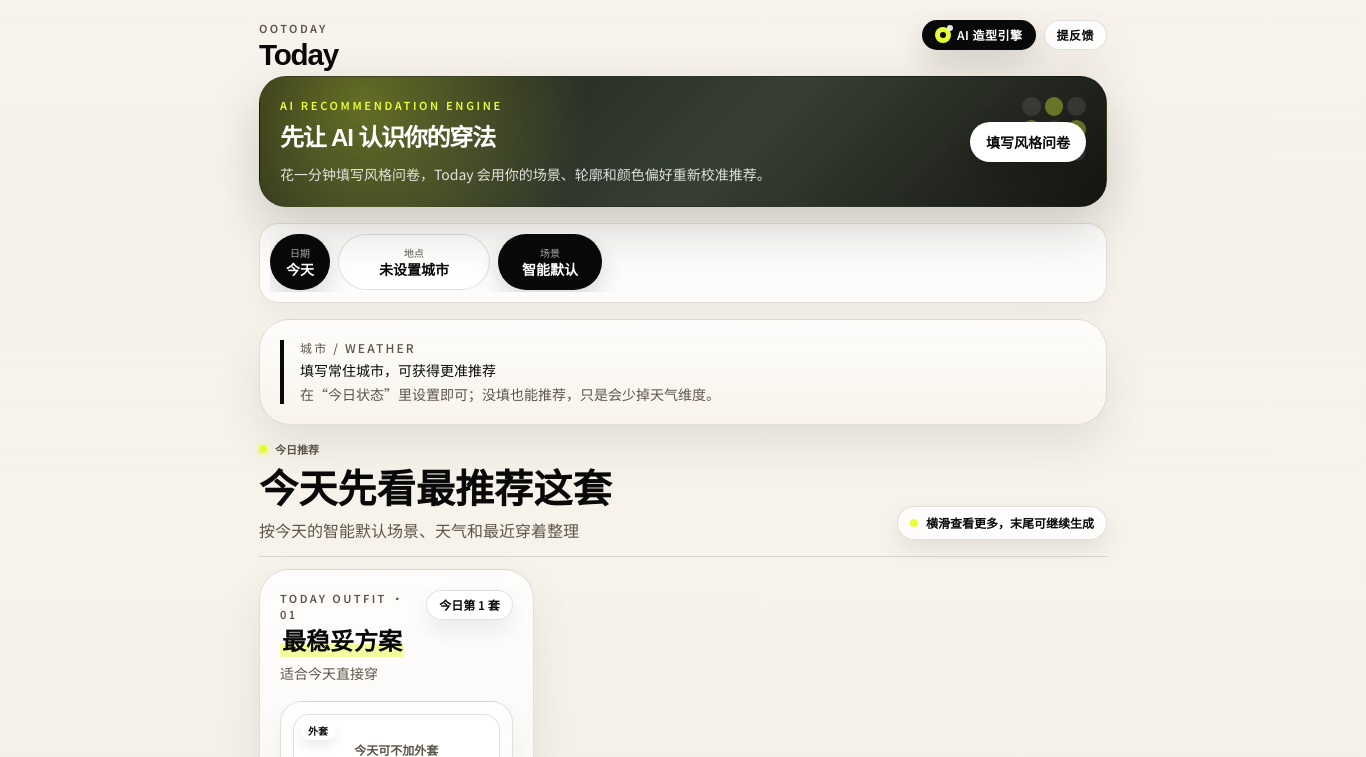
Scenario: TodayPage › opens the city form from context and hides the city prompt after save
The image size is (1366, 757).
Expected: the text "填写常住城市，可获得更准推荐" is shown, [300,360,496,380]
Click the button with aria-label "地点：未设置城市".
click(414, 262)  # box [338,234,490,290]
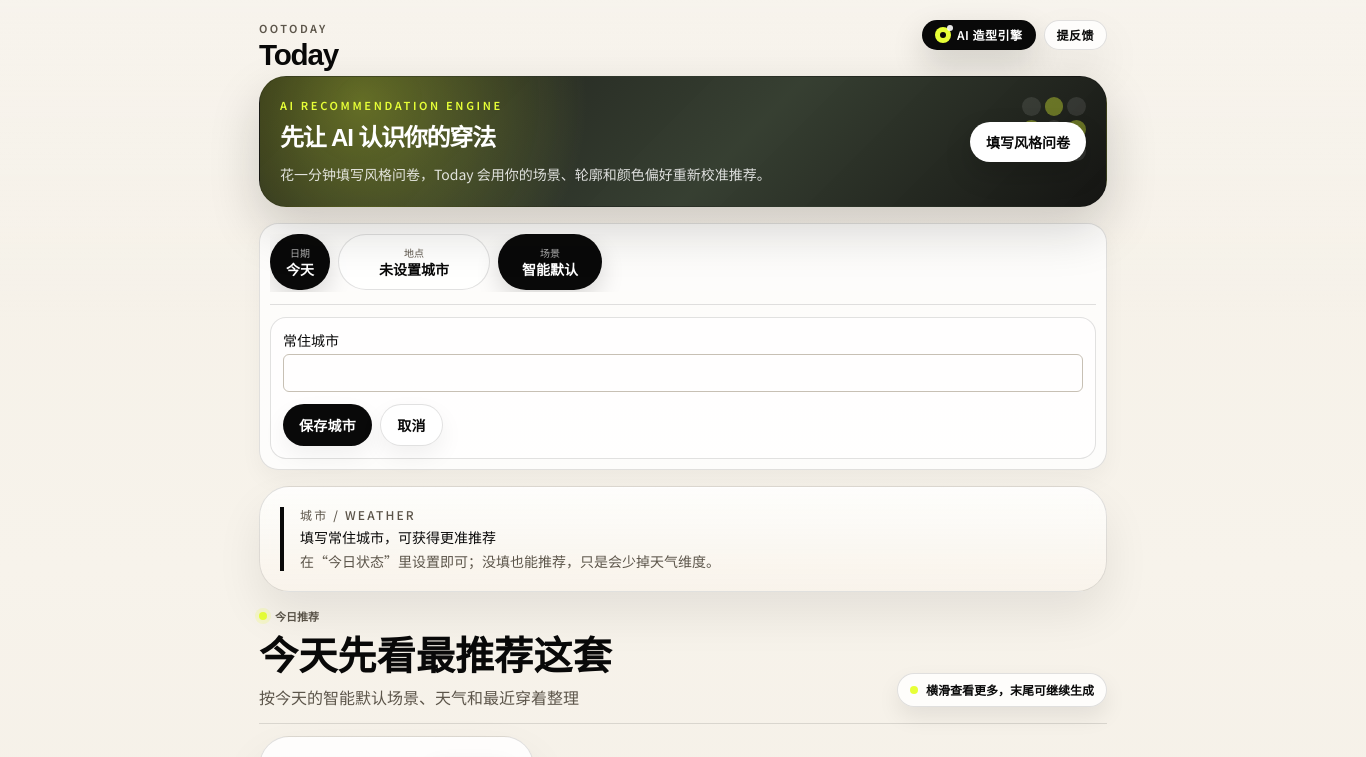
Type "上海" into the field labelled "常住城市".
click(683, 373); type("上海")  # box [283,354,1083,392]
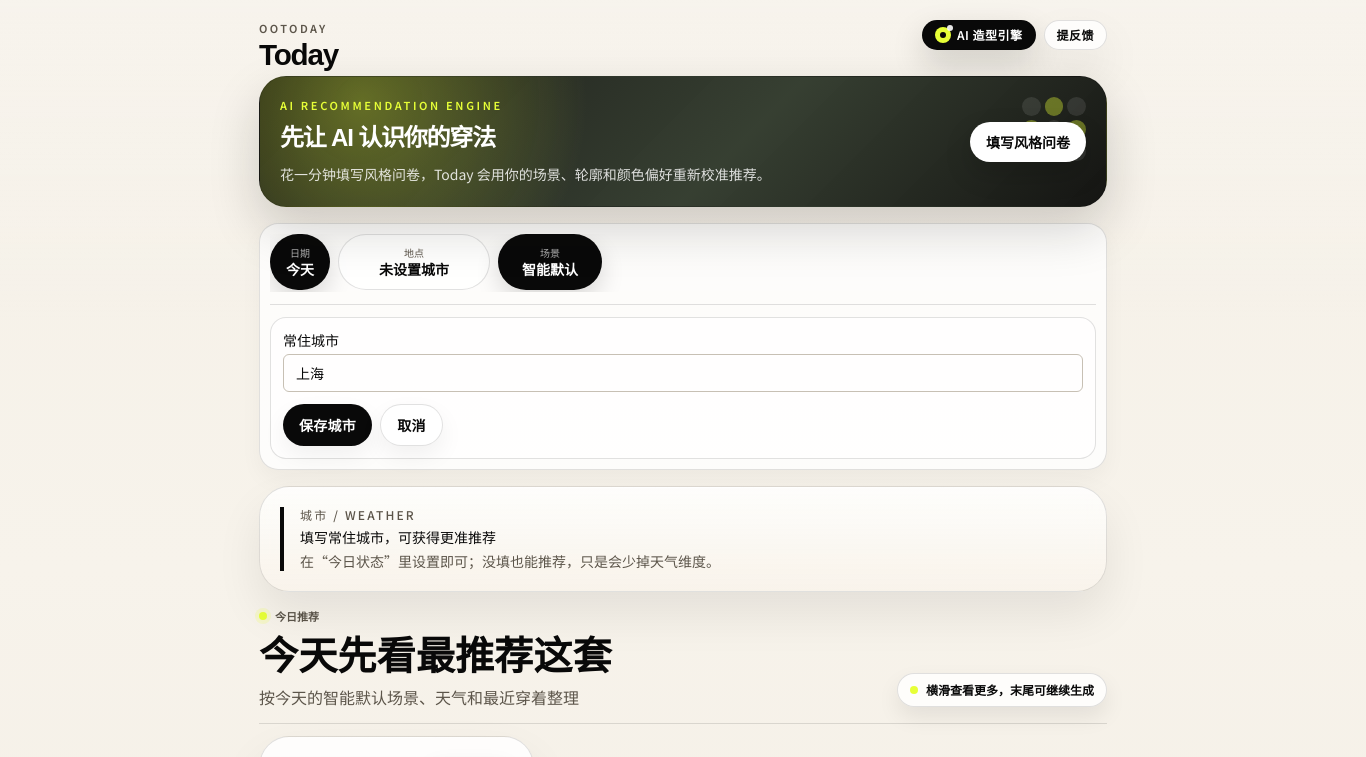
Click the button "保存城市".
click(328, 425)  # box [283,404,372,446]
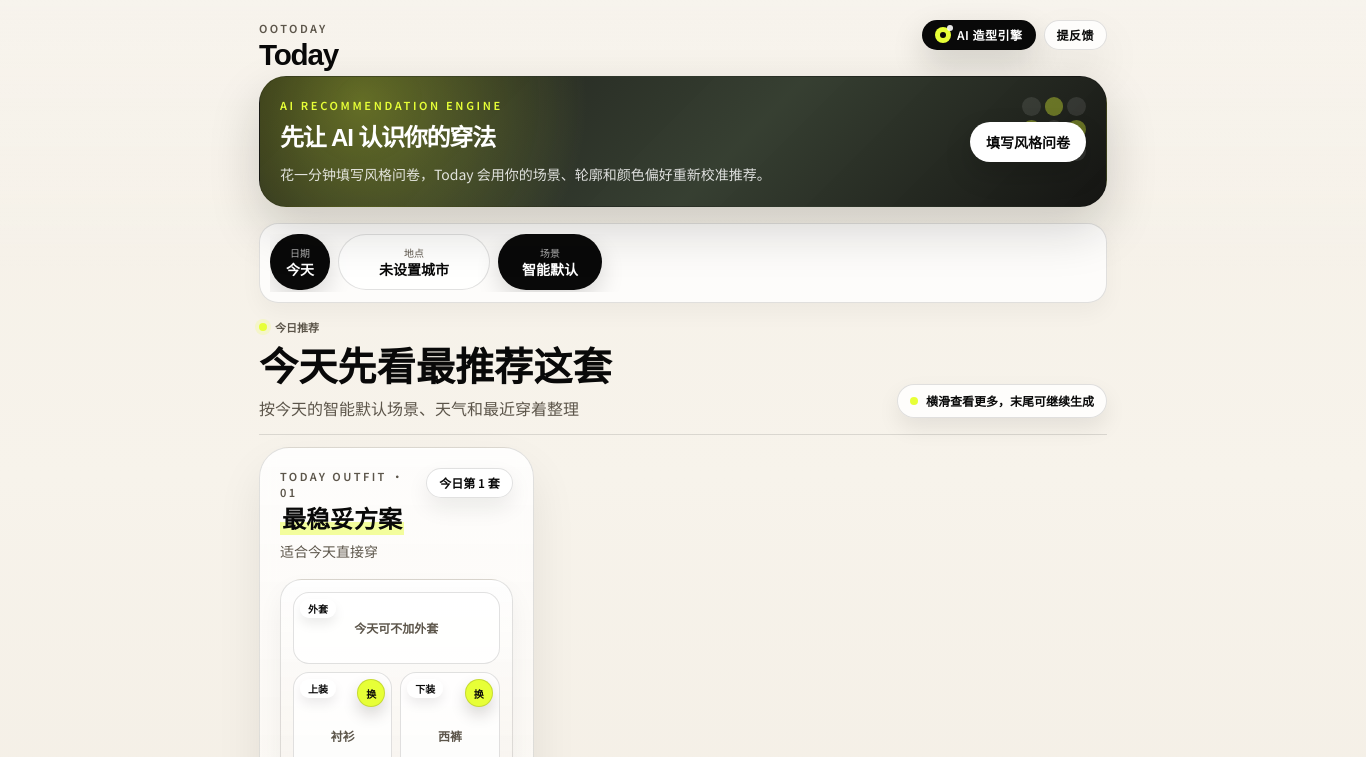
Now the text "填写常住城市，可获得更准推荐" is gone
